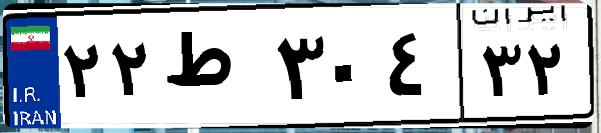0: (330, 28, 385, 110)
2: (57, 26, 110, 100), (525, 38, 570, 115), (110, 28, 158, 98)
3: (270, 28, 330, 110), (475, 38, 525, 113)
4: (385, 28, 445, 110)
ط: (158, 20, 270, 120)
